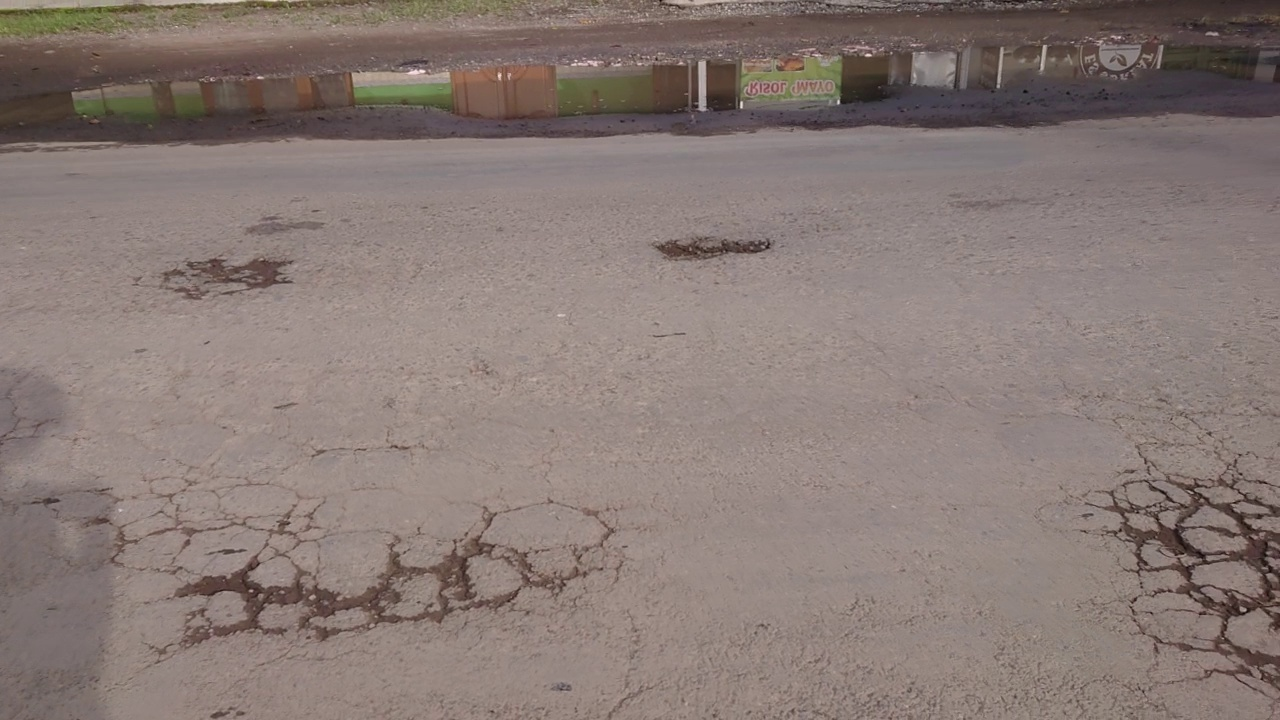Retak: (156, 506, 608, 643), (1099, 472, 1280, 703), (152, 259, 303, 291), (644, 234, 774, 265)
